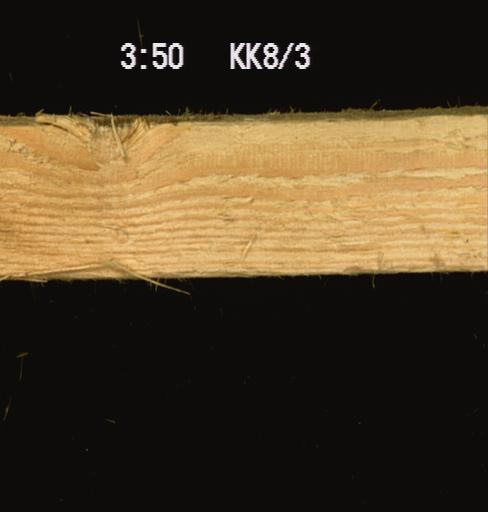edge_knot: (39, 112, 202, 157)
